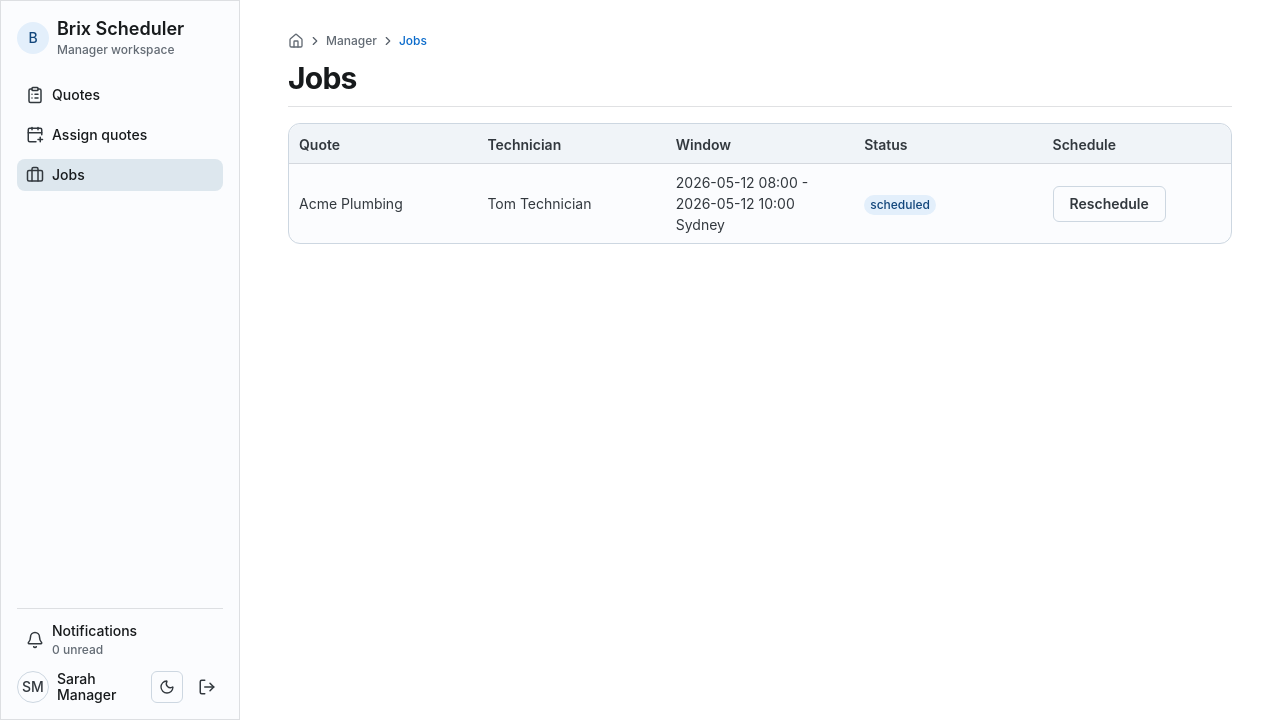
Test: manager dashboard › Successful reschedule sends selected technician and start time
The image size is (1280, 720).
Click the button with aria-label "reschedule acme plumbing".
click(1109, 204)  # box [1053,186,1166,222]
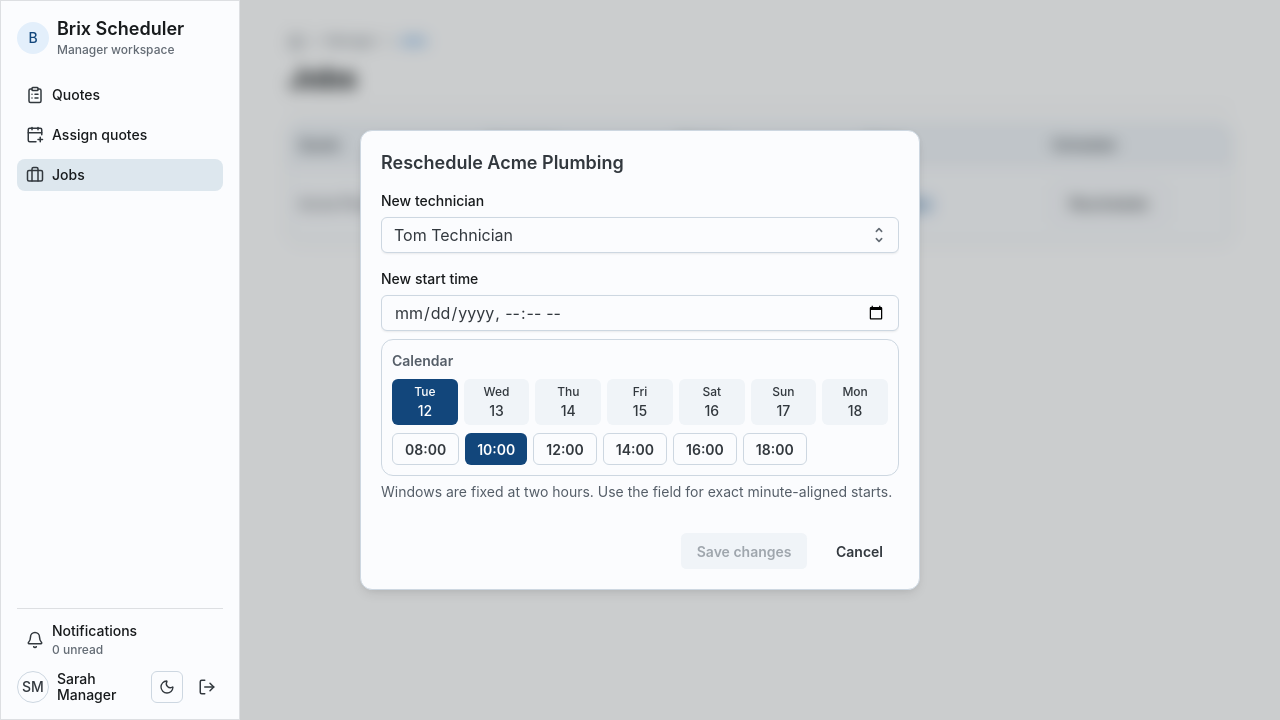
Click the dropdown named "New technician".
click(453, 235)  # box [394,221,861,249]
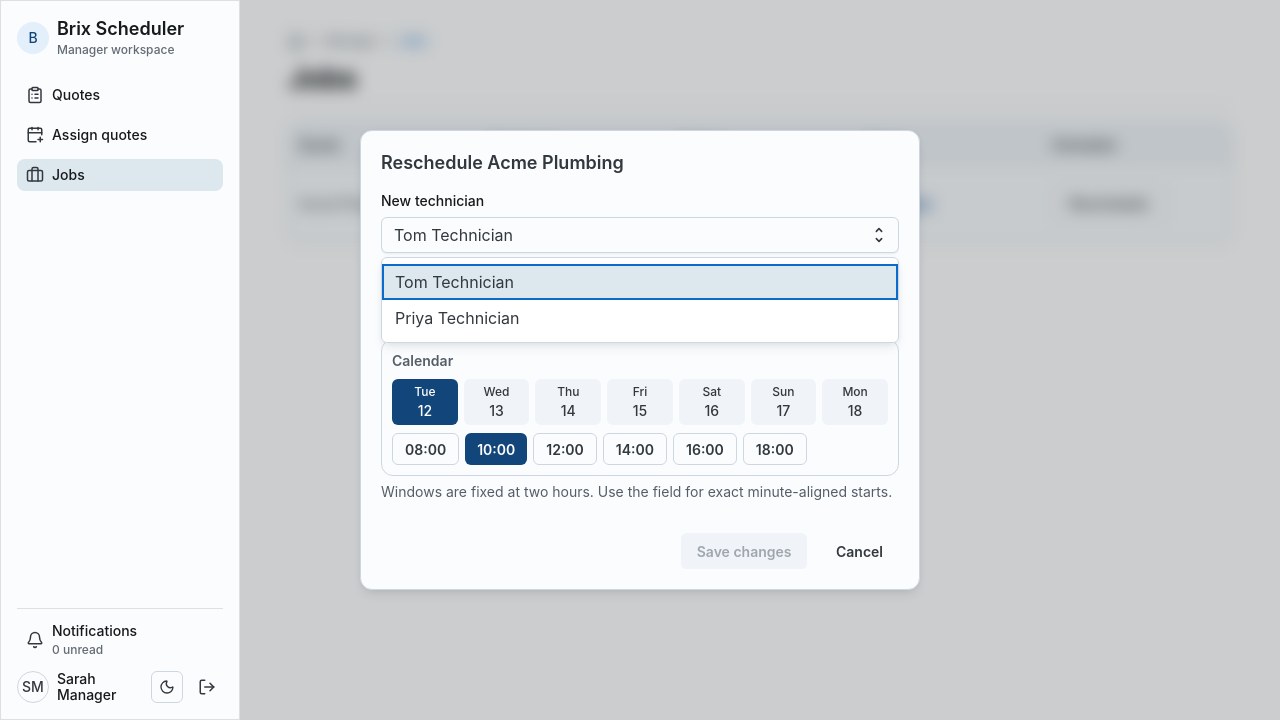
Click the option "Priya Technician".
click(457, 318)  # box [395,308,520,328]
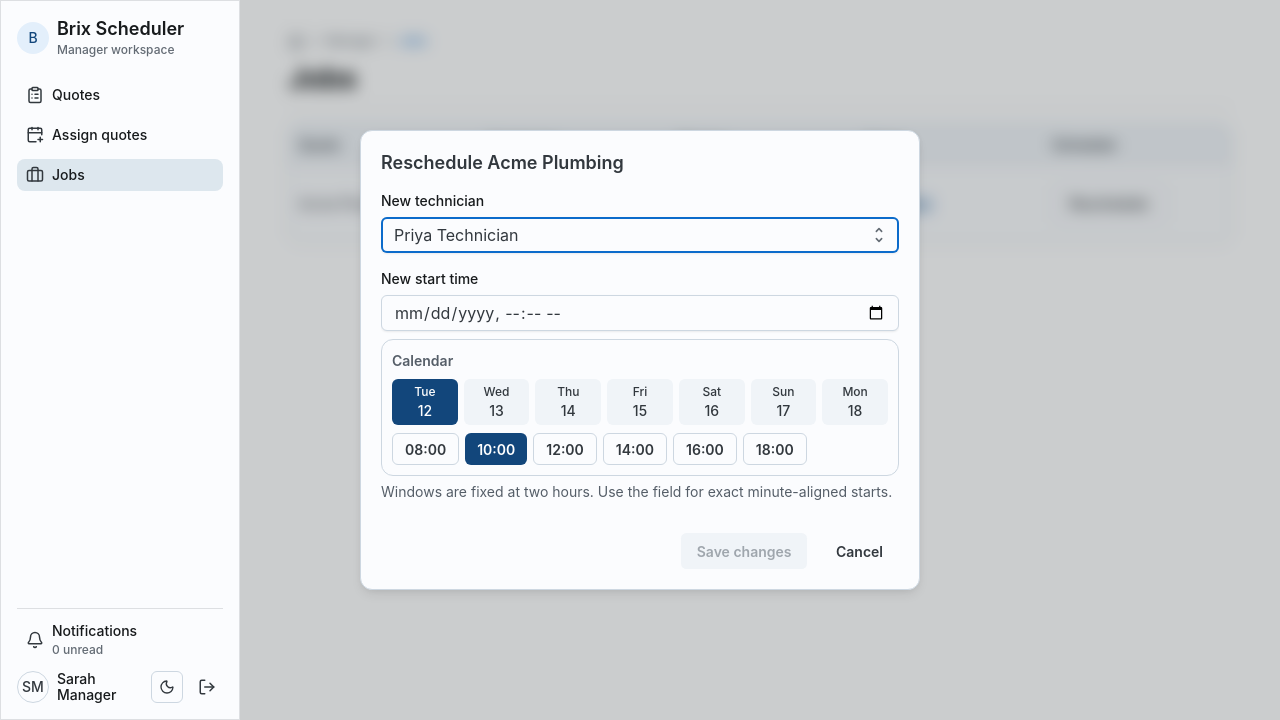
Type "2026-05-12T13:00" into the field labelled "New start time".
click(640, 313); type("2026-05-12T13:00")  # box [394,296,886,330]
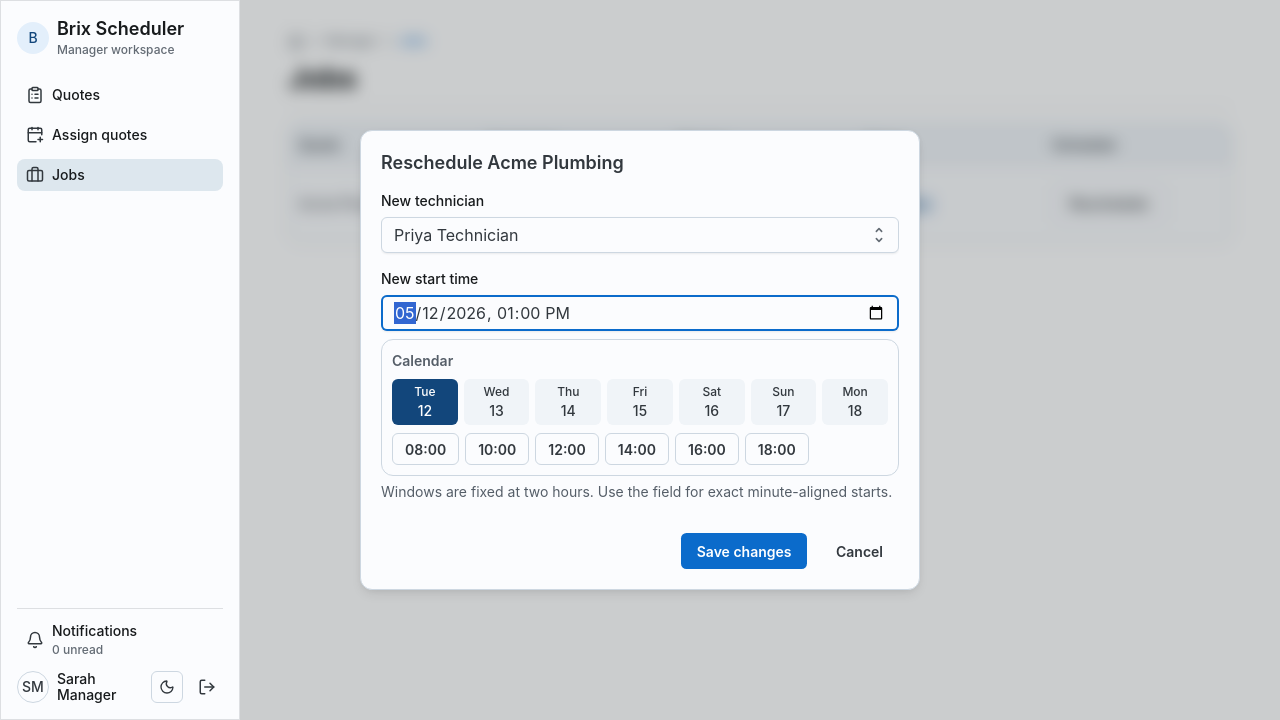
Click the button "Save changes".
click(744, 551)  # box [681,533,807,569]
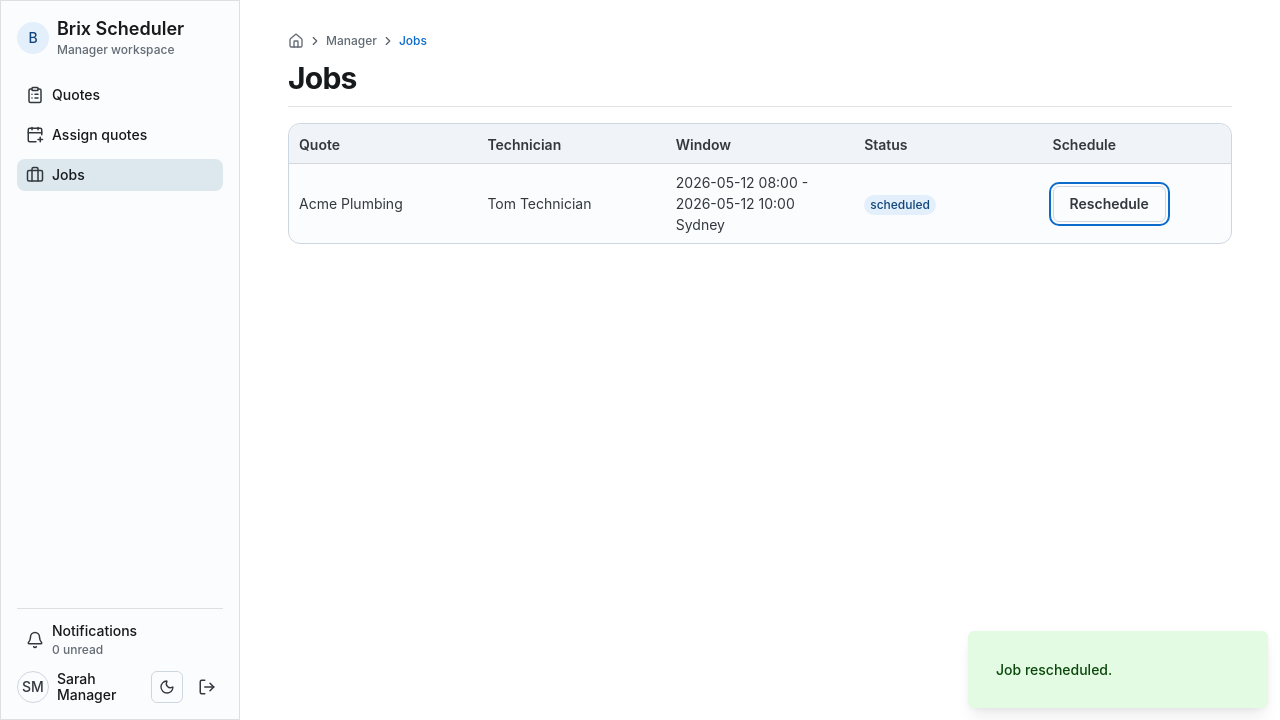
Now the message reads "Job rescheduled.", box [996,661,1112,678]
